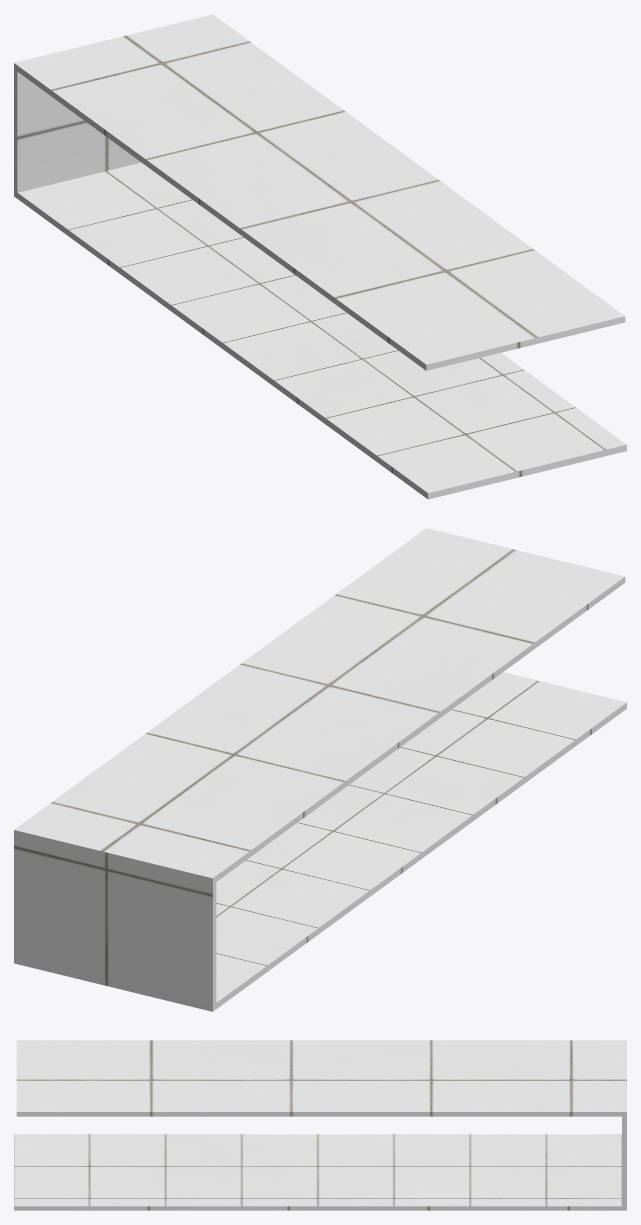
File: Lab_V1.fbx
3 views of the same model, one above another, from view 1: azimuth 30°, elevation 25°; view 2: azimuth 150°, elevation 25°; view 3: azimuth 270°, elevation 25° (orthographic). The views are drawn at different scales.
Parts seen in each view (by area): view 1: Cube; view 2: Cube; view 3: Cube.
Part boxes in pixels (left/top/right/bottom): Cube: left=14, top=14, right=626, bottom=499; Cube: left=14, top=528, right=626, bottom=1011; Cube: left=14, top=1040, right=626, bottom=1210.
Size of the model in its own units: 6685 by 4289 by 24120.
